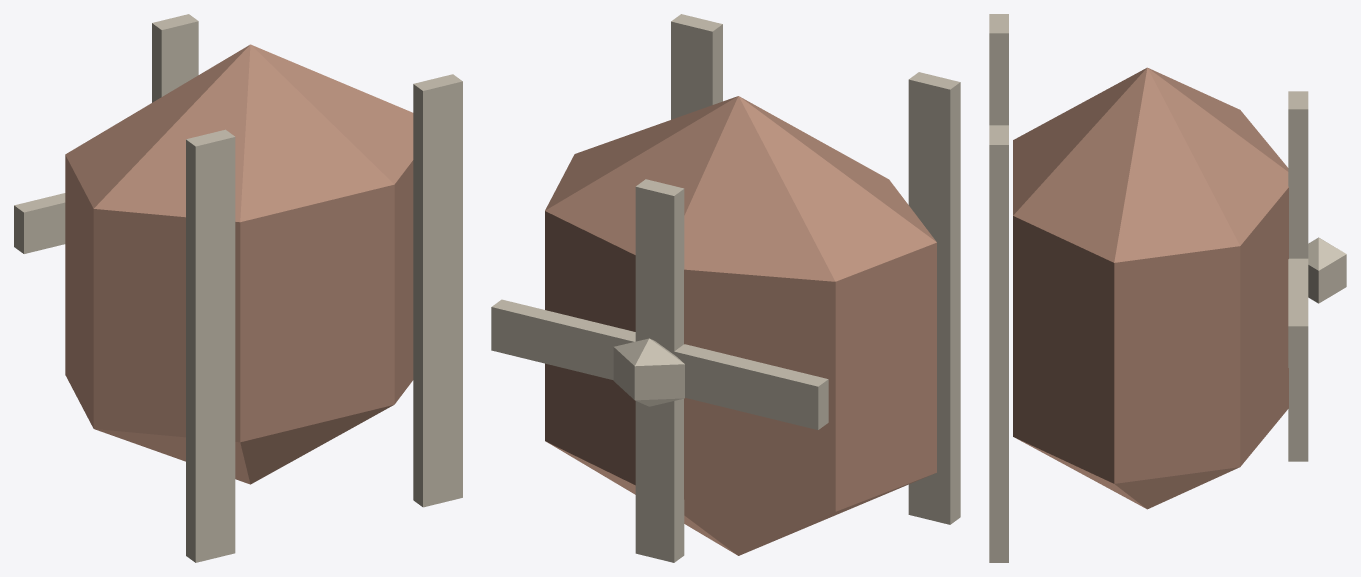
Rendered from bundle-pack.glb.
The picture shows the model from 3 angles, left to right: view 1: azimuth 30°, elevation 25°; view 2: azimuth 150°, elevation 25°; view 3: azimuth 270°, elevation 25°; orthographic projection. The views are drawn at different scales.
Visible parts, largest first — view 1: bundle_pack; view 2: bundle_pack; view 3: bundle_pack.
Part boxes in pixels (<box>): bundle_pack: <box>14,14,462,562</box>; bundle_pack: <box>491,14,960,562</box>; bundle_pack: <box>989,14,1346,562</box>.
Size of the model in its own units: 0.2033 by 0.2467 by 0.1808.
